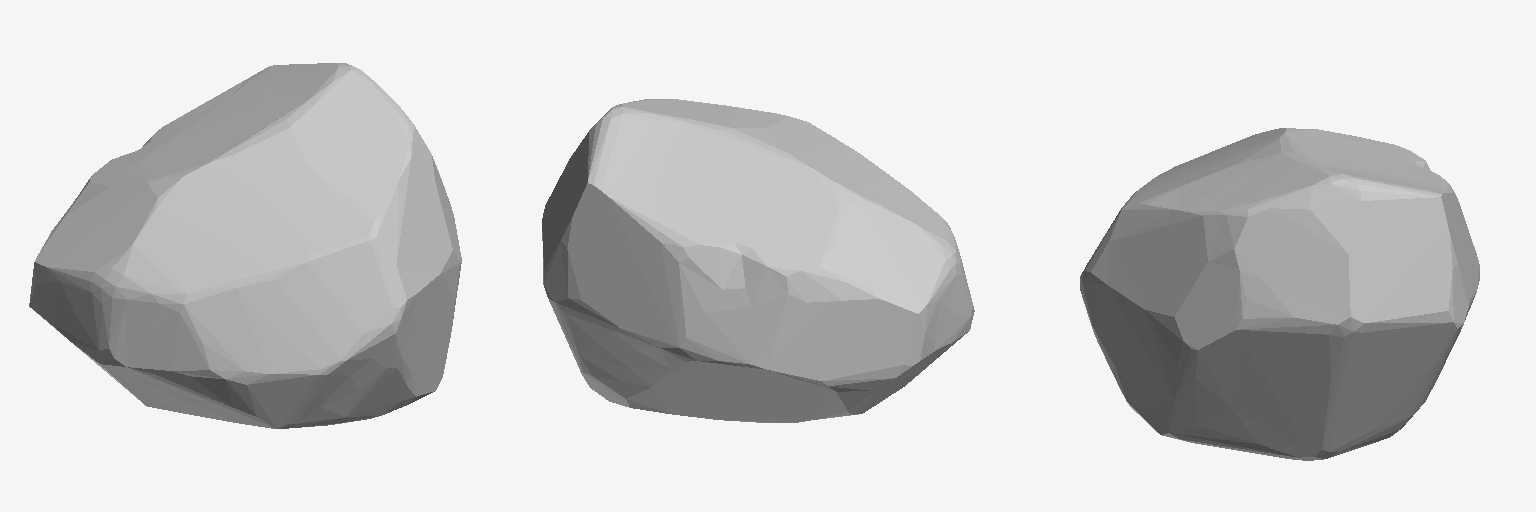
File: stone_3_low.obj
3 renders of one model, left to right at view 1: azimuth 30°, elevation 25°; view 2: azimuth 150°, elevation 25°; view 3: azimuth 270°, elevation 25°, orthographic.
Visible parts, largest first — view 1: stone_3_low:Group34599; view 2: stone_3_low:Group34599; view 3: stone_3_low:Group34599.
Part boxes in pixels (x1,y1,x2,y2): stone_3_low:Group34599: (29,63,461,428); stone_3_low:Group34599: (542,99,974,422); stone_3_low:Group34599: (1080,128,1479,460).
Bounding box in the file's own units: 39.24 × 27.4 × 35.92.